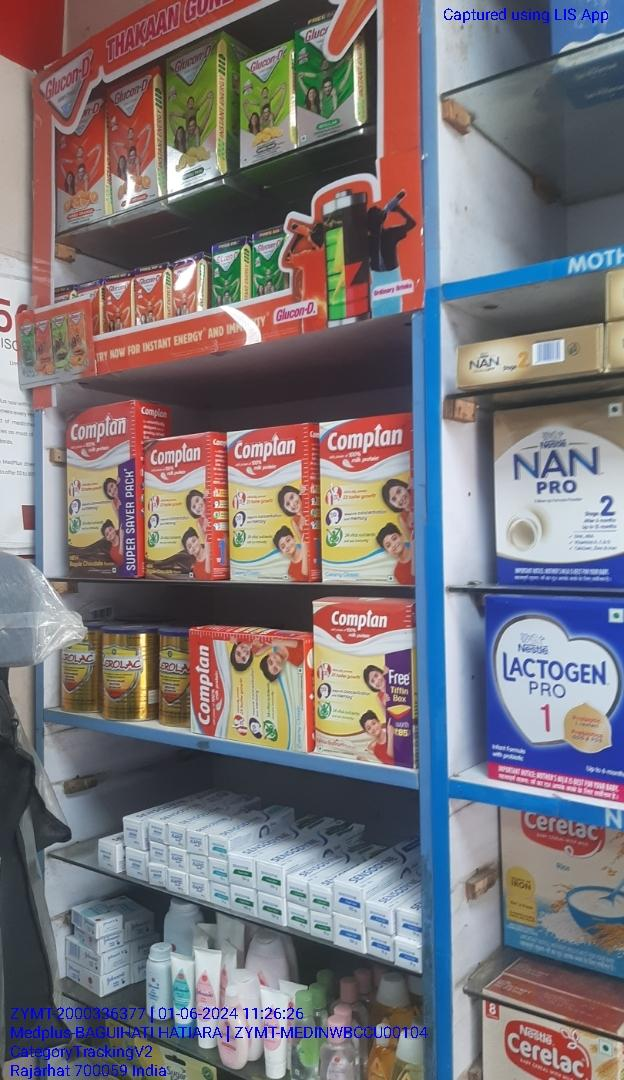COMPLAN_CHOCOLATE_1_KG_PACK: (64, 401, 141, 579)
COMPLAN_CHOCOLATE_500_GMS_PACK: (145, 436, 216, 579)
COMPLAN_CREAMY_CLASSIC_500_G_PACK: (321, 414, 415, 584), (229, 424, 312, 580)
COMPLAN_KESAR_BADAM_500_GMS_PACK: (315, 600, 417, 771)
